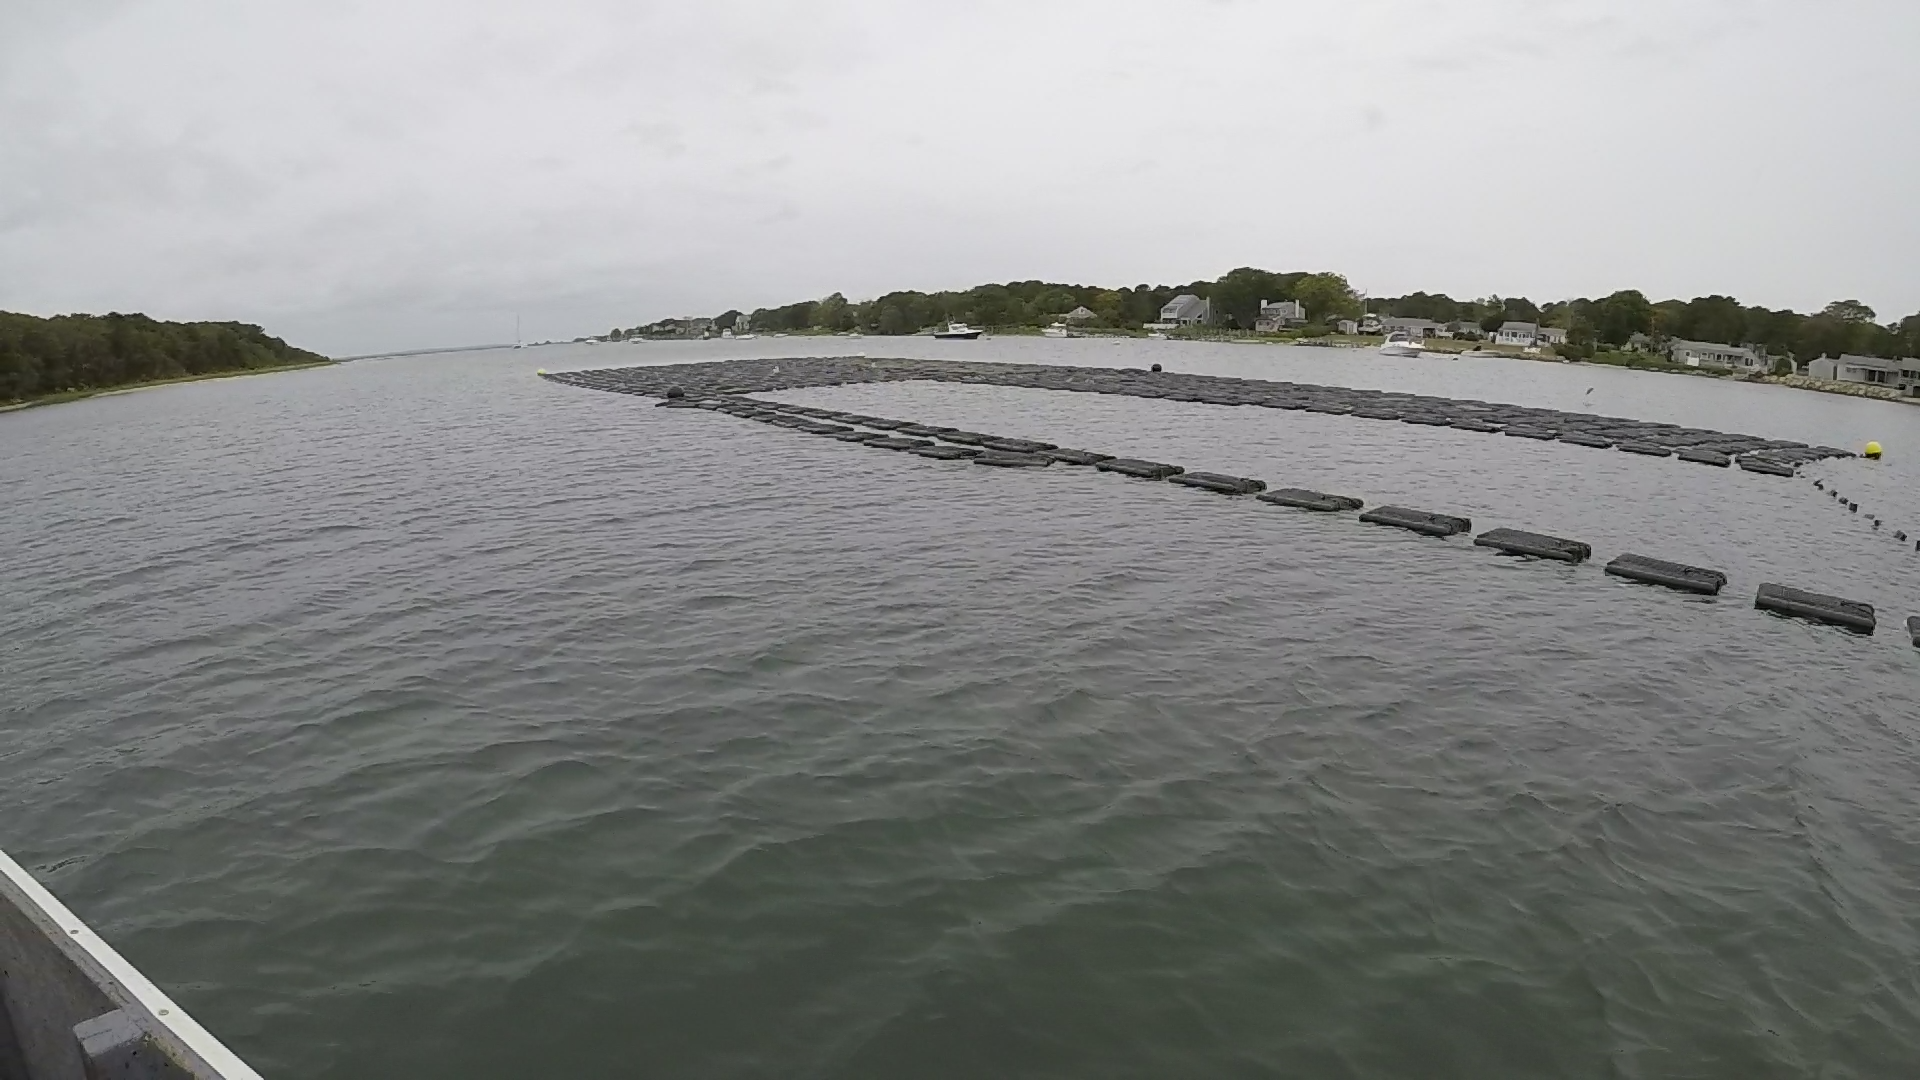bag: (1754, 578, 1879, 636), (1600, 550, 1731, 597), (1358, 493, 1468, 543), (1474, 520, 1593, 566)
